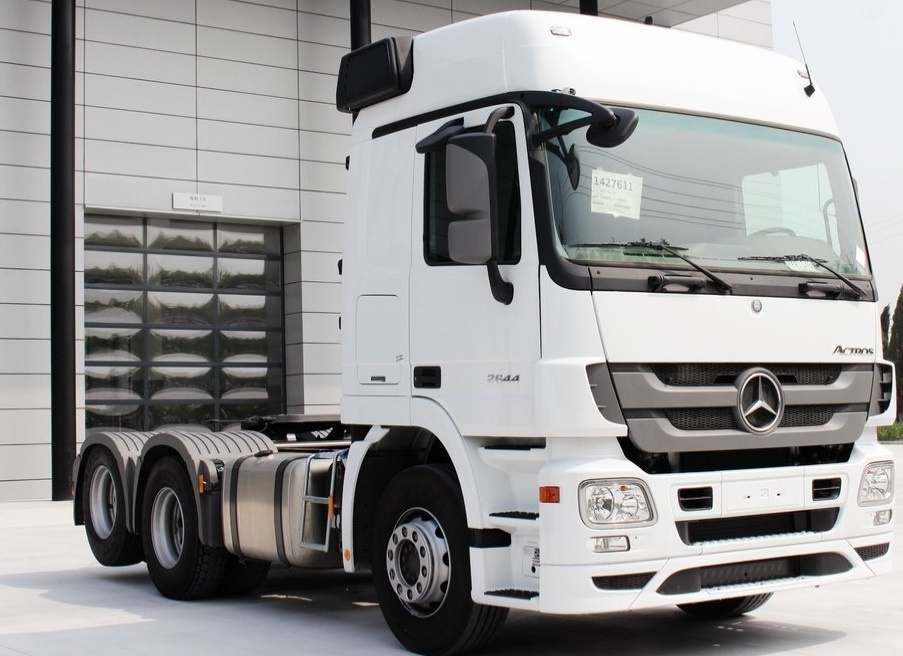heavy truck: (67, 48, 897, 639)
